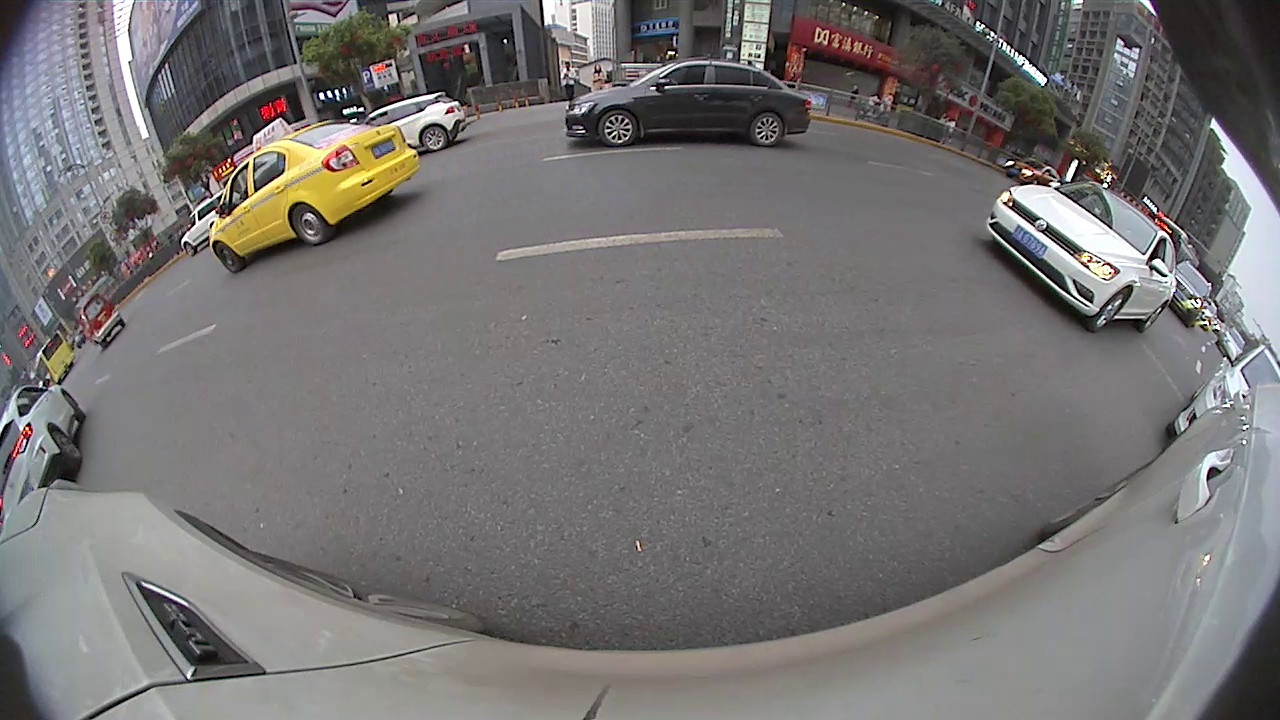car: (206, 118, 422, 274), (985, 178, 1179, 337), (561, 58, 813, 149), (0, 381, 104, 518), (1163, 341, 1279, 443), (362, 89, 468, 153)
front: (1084, 287, 1129, 335), (597, 108, 638, 149), (211, 242, 243, 275)
rear: (289, 199, 332, 248), (49, 425, 87, 468), (750, 112, 785, 148), (421, 124, 448, 154)
rider: (76, 289, 128, 351)
